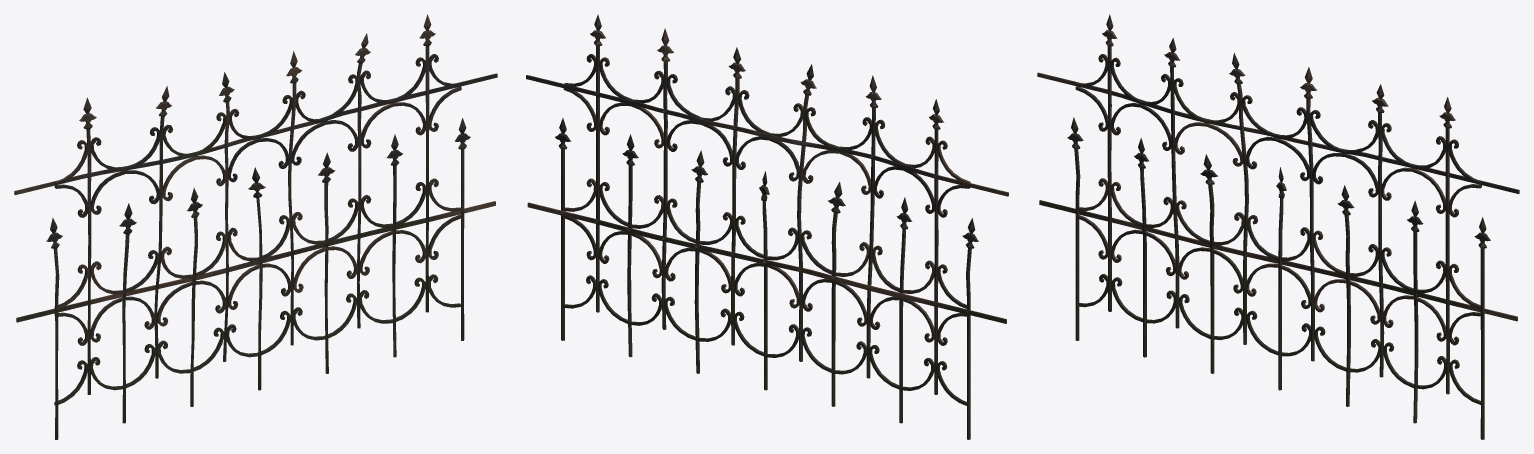
File: Iron_Fence_S_01.fbx
The picture shows the model from 3 angles, left to right: view 1: azimuth 30°, elevation 25°; view 2: azimuth 150°, elevation 25°; view 3: azimuth 330°, elevation 25°; orthographic projection.
Parts seen in each view (by area): view 1: Iron_Fence_S_01; view 2: Iron_Fence_S_01; view 3: Iron_Fence_S_01.
Part boxes in pixels (x1,y1,x2,y2): Iron_Fence_S_01: (14, 14, 497, 439); Iron_Fence_S_01: (526, 14, 1008, 439); Iron_Fence_S_01: (1037, 14, 1519, 439).
Size of what is drawn, in the model's own units: 521 by 346 by 22.9.
